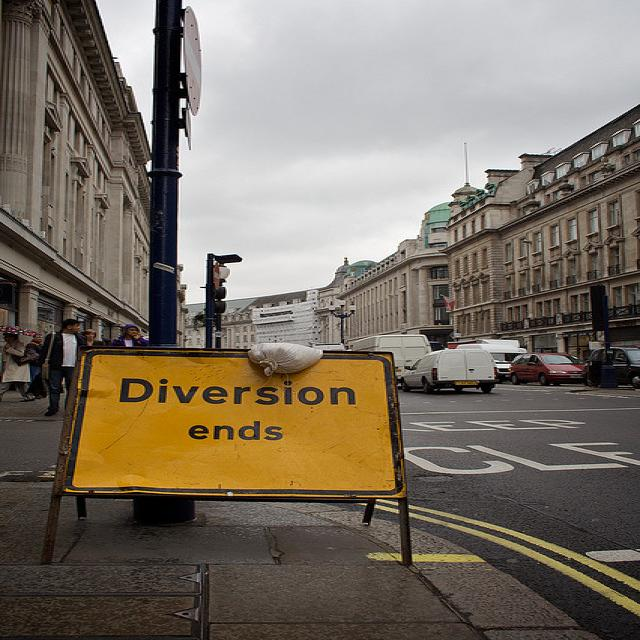Vehicle: (345, 335, 432, 386), (399, 348, 495, 392), (508, 352, 588, 386), (453, 340, 528, 376), (585, 346, 640, 390)
